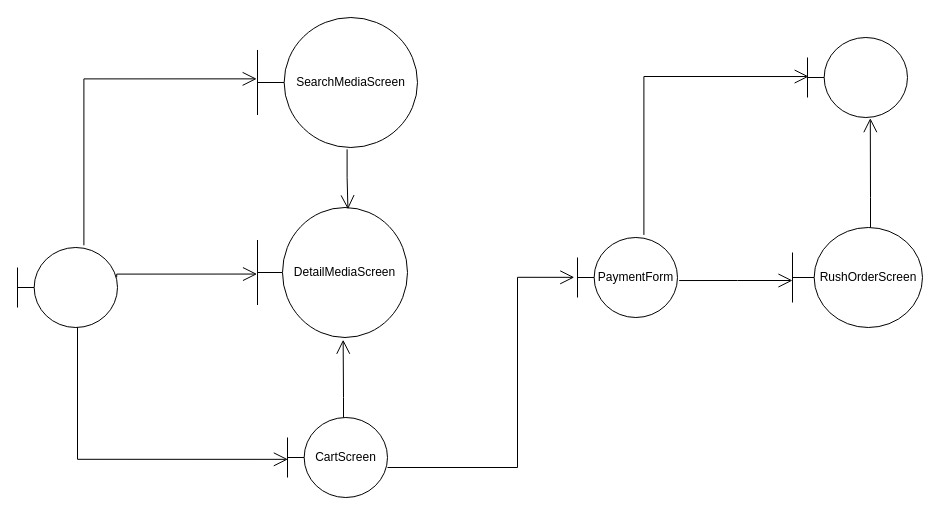
Some shapes in this 940 by 515 pixel diagram are drawn without their labels. The box of each missing label's shape, as (x1, y1, x2, y2) in pixels:
DeliveryForm: (806, 36, 908, 118)
HomeScreen: (16, 246, 118, 328)
